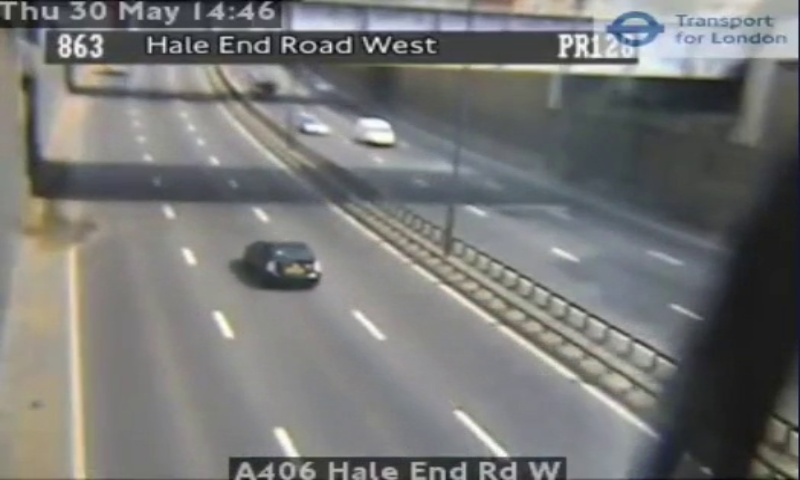car: (245, 241, 320, 288)
